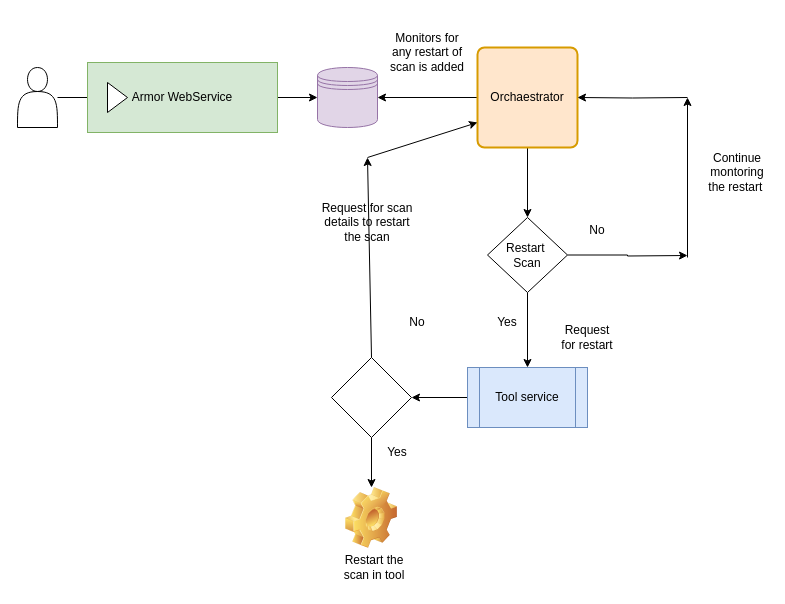
Image size: 785x604. Some labels were removed from this diagram. The shapes that lost their labels are listed below. From the top down, each one's centre as x and y in pixels, then its label:
At point (347, 97): "Armor DB".
At point (371, 397): "Scan Details Exists".
